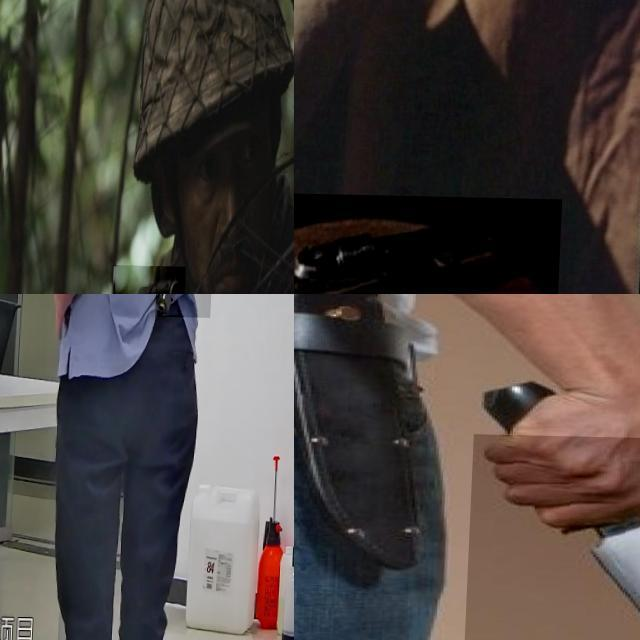-: (464, 432, 640, 640)
gun-knife-thesis - v11 Yolov5 augmented: (294, 190, 565, 294), (157, 294, 217, 356)
